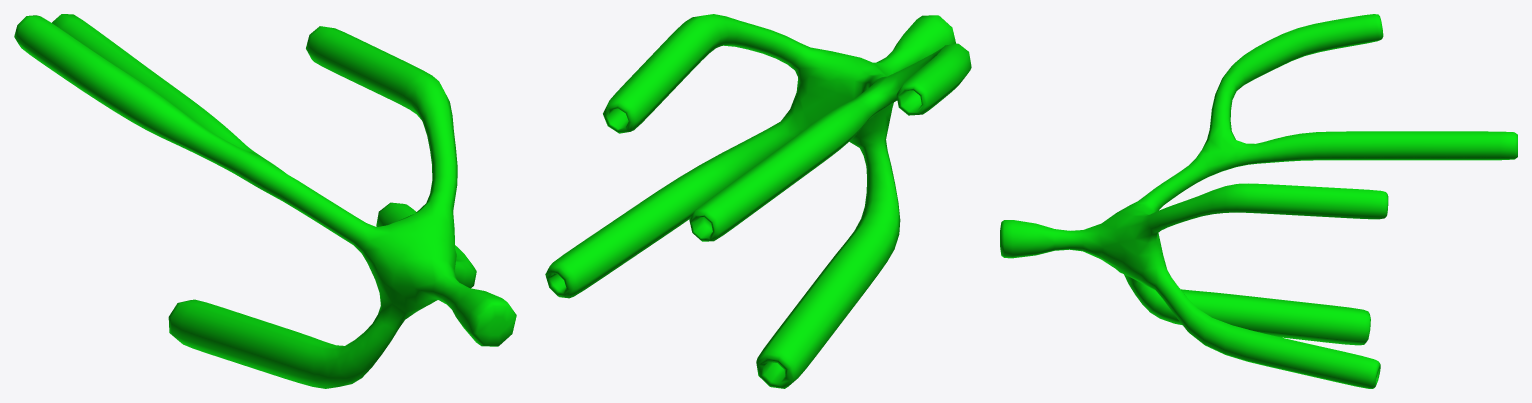
File: coralTube_low.fbx
The picture shows the model from 3 angles, left to right: view 1: azimuth 30°, elevation 25°; view 2: azimuth 150°, elevation 25°; view 3: azimuth 270°, elevation 25°; orthographic projection. The views are drawn at different scales.
Parts seen in each view (by area): view 1: coralTube_low; view 2: coralTube_low; view 3: coralTube_low.
Part boxes in pixels (x1,y1,x2,y2): coralTube_low: [14, 14, 516, 388]; coralTube_low: [545, 14, 971, 388]; coralTube_low: [1000, 14, 1517, 388].
Size of the model in its own units: 92.1 by 79.2 by 137.
